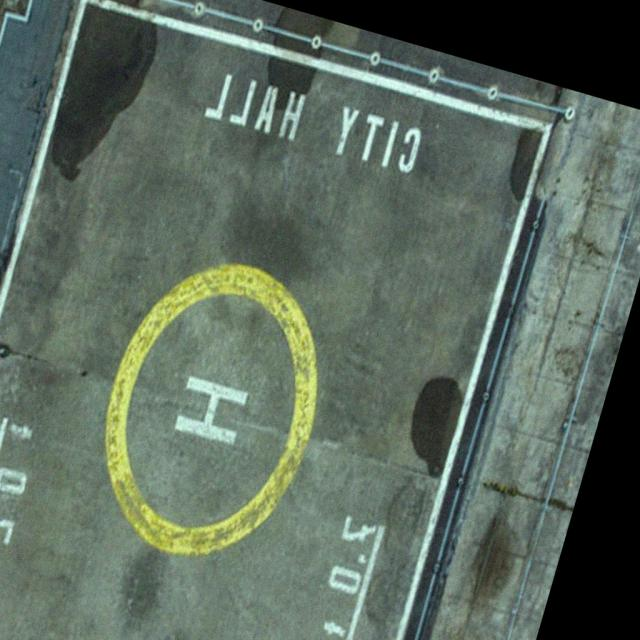helipad: (96, 260, 324, 559)
